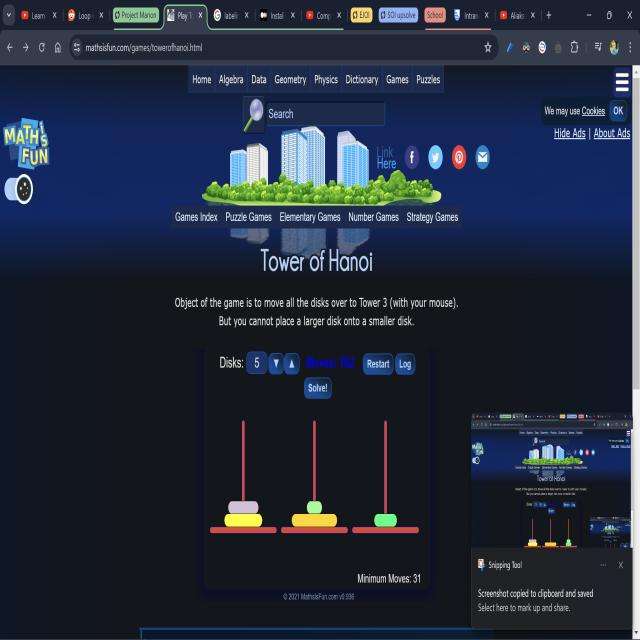disk1: (307, 501, 322, 514)
disk2: (374, 514, 397, 526)
disk3: (228, 501, 259, 513)
disk4: (225, 514, 262, 527)
disk5: (292, 514, 338, 527)
